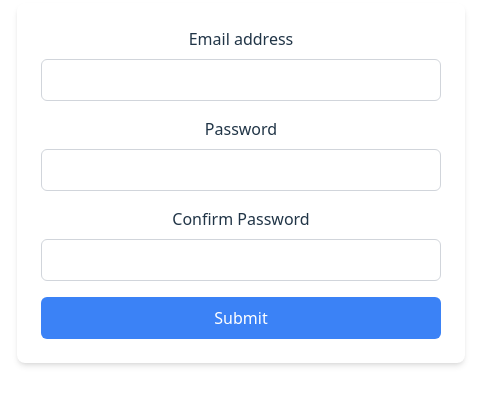
Test: Form › Should return error on email validation
The image size is (483, 420).
In the field with test id "email-input": [241, 80] box [41, 59, 441, 101], type "testgmail.com"
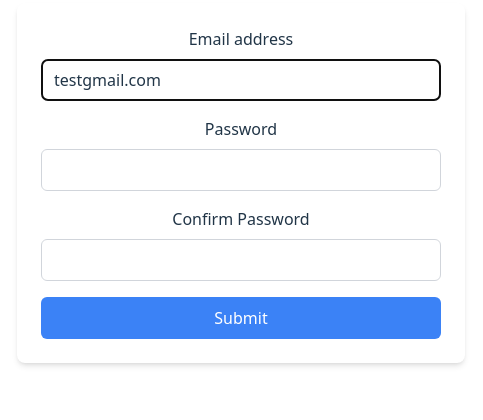
Click the button with test id "form-submit": [241, 318] box [41, 297, 441, 339]
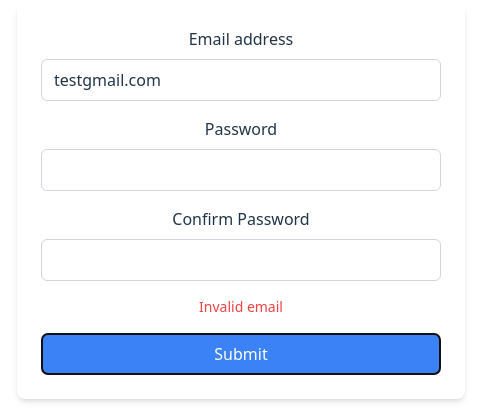
expect the text "Invalid email" is shown: met, box [199, 297, 283, 316]
